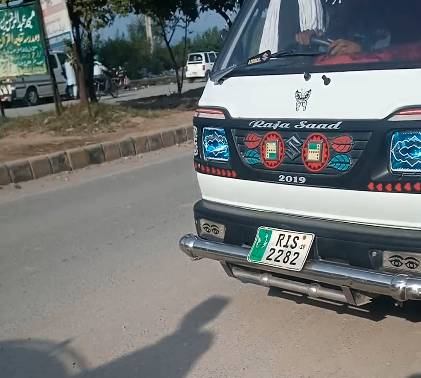number_plate: (246, 224, 315, 274)
